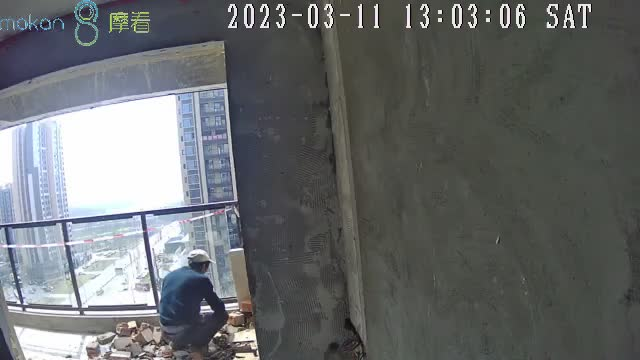people: (158, 250, 229, 353)
window: (1, 93, 242, 314)
